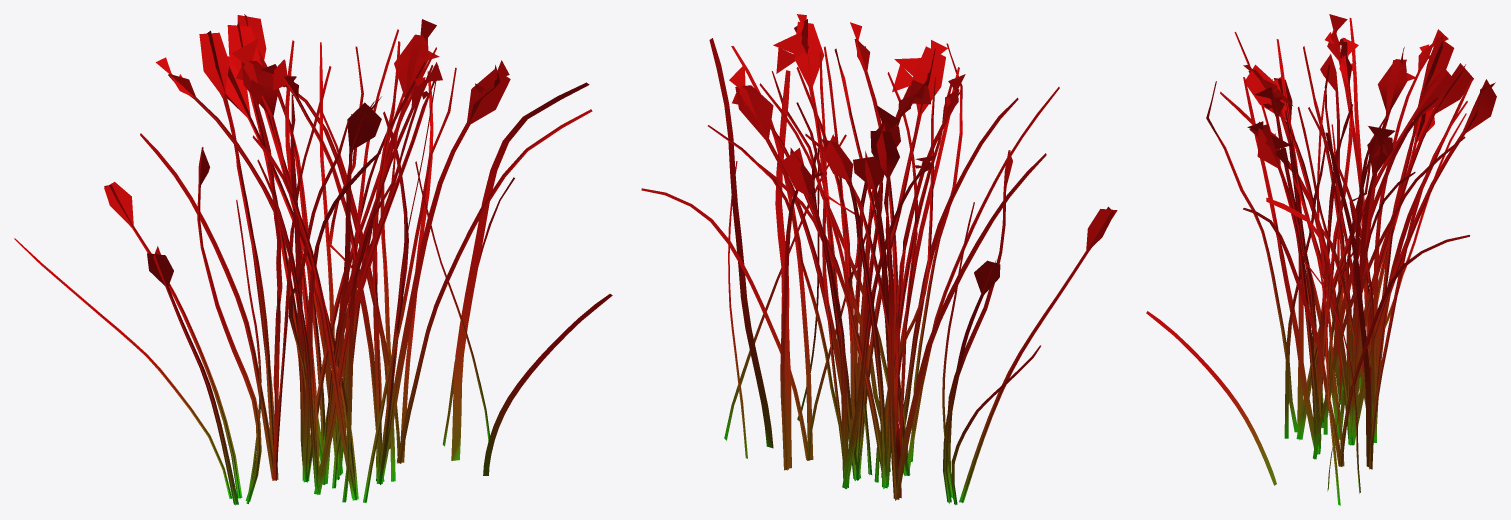
Rendered from Var6_LOD0.fbx.
3 renders of one model, left to right at view 1: azimuth 30°, elevation 25°; view 2: azimuth 150°, elevation 25°; view 3: azimuth 270°, elevation 25°, orthographic. The views are drawn at different scales.
Parts seen in each view (by area): view 1: _100e_Var6_LOD0; view 2: _100e_Var6_LOD0; view 3: _100e_Var6_LOD0.
Boxes of the visible parts, x1,y1,x2,y2 form: _100e_Var6_LOD0: (14, 14, 612, 505); _100e_Var6_LOD0: (641, 14, 1117, 505); _100e_Var6_LOD0: (1146, 14, 1496, 505).
Bounding box in the file's own units: 167 × 153 × 125.
